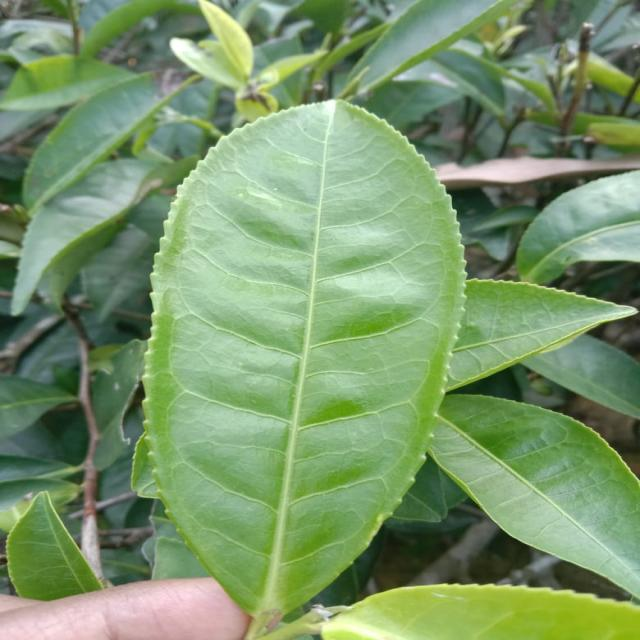Category B(2-4 days): (136, 86, 474, 626)
